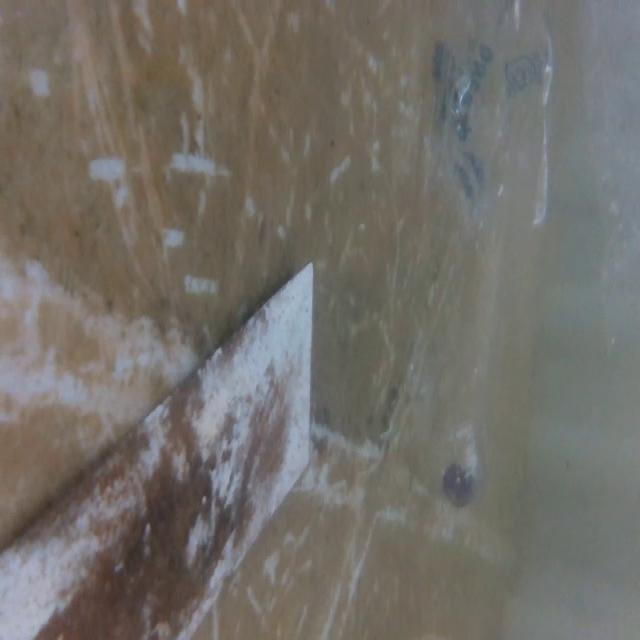plastic bags: (424, 1, 569, 242)
